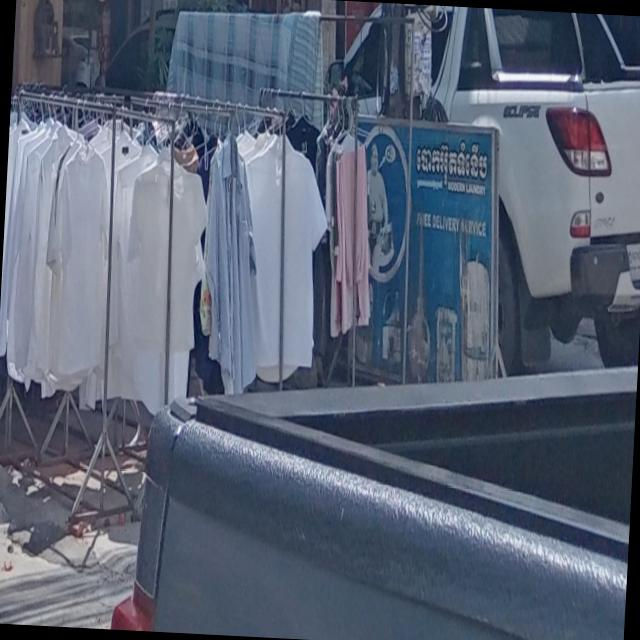Yolov11kh: (409, 132, 492, 191)
